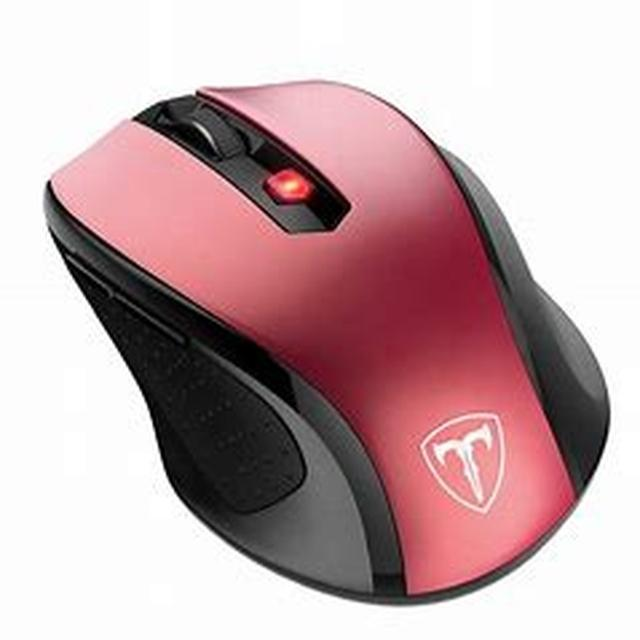mouse: (57, 62, 587, 613)
